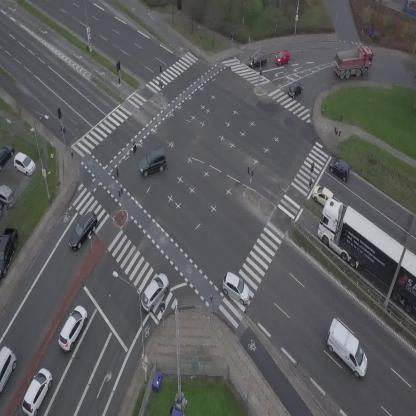car: (17, 366, 57, 416), (54, 303, 93, 353), (62, 209, 103, 252), (135, 270, 175, 313), (217, 271, 257, 307), (134, 147, 171, 178), (0, 346, 16, 397), (308, 182, 336, 209), (326, 155, 354, 182), (285, 79, 305, 99), (247, 51, 268, 68), (273, 49, 292, 66)
lorry: (315, 317, 379, 381), (332, 44, 376, 80)
